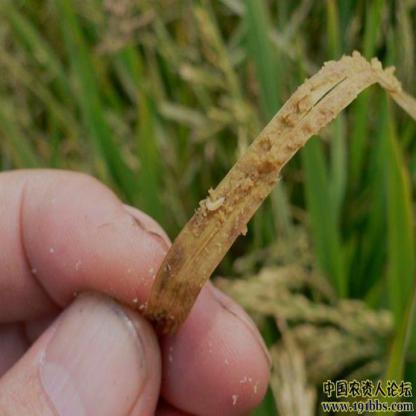whorl-maggot: (201, 193, 230, 215)
